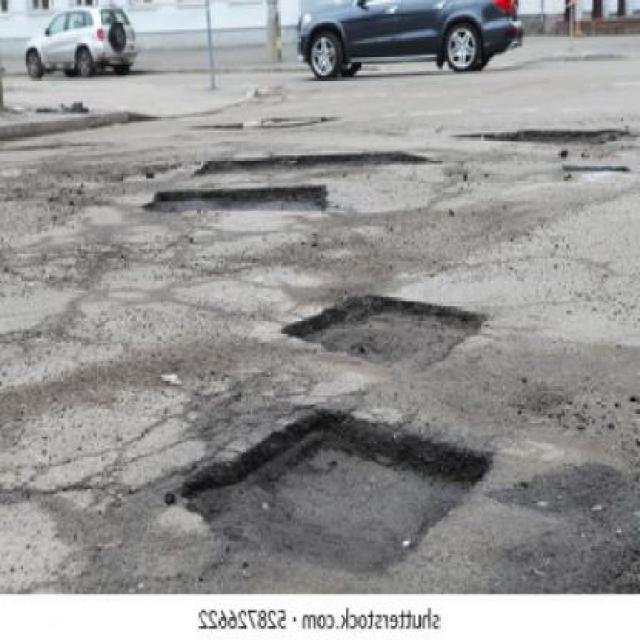Pothole: (172, 400, 510, 588), (272, 287, 501, 381), (189, 150, 446, 179), (141, 183, 325, 215), (445, 127, 640, 146), (182, 116, 345, 129)
